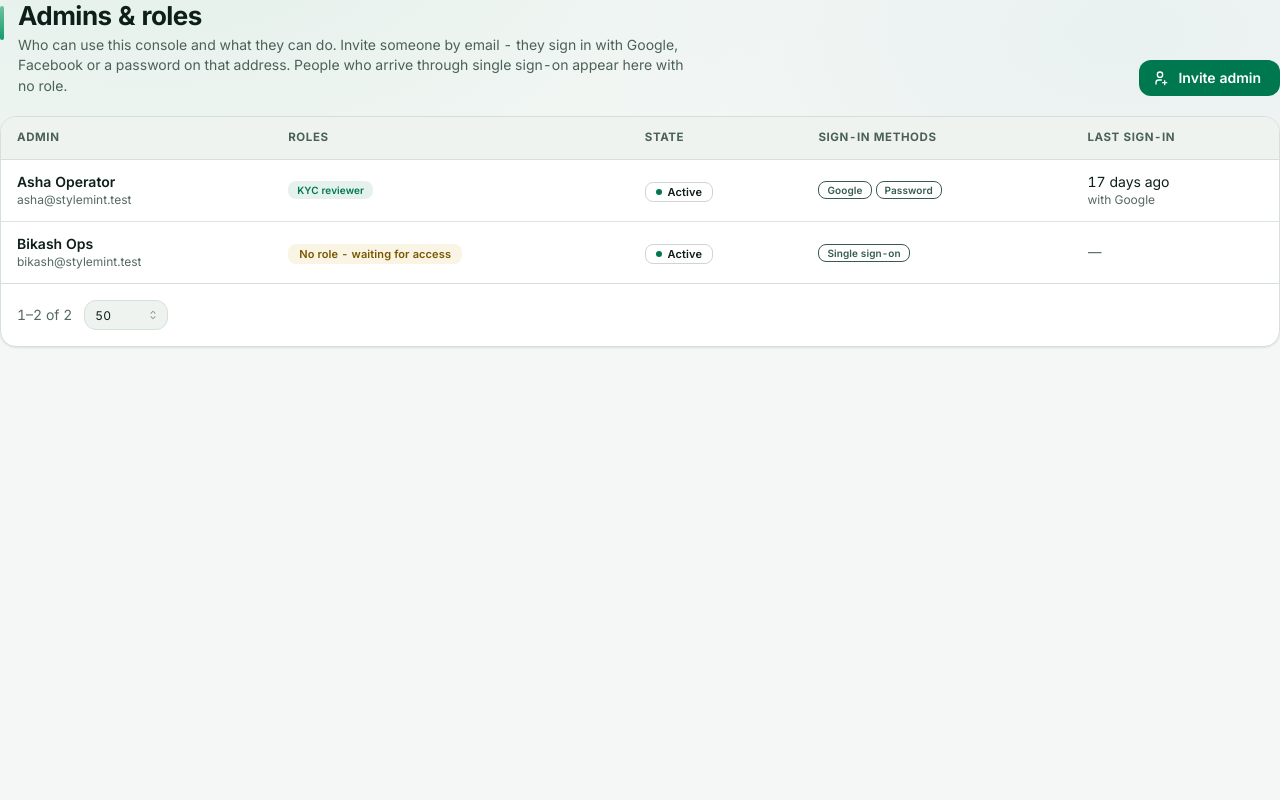
Test: invite admin › sends the invitation after the step-up check and refreshes the list
Click the button "Invite admin" at (1210, 78), box x1=1140 y1=60 x2=1279 y2=96
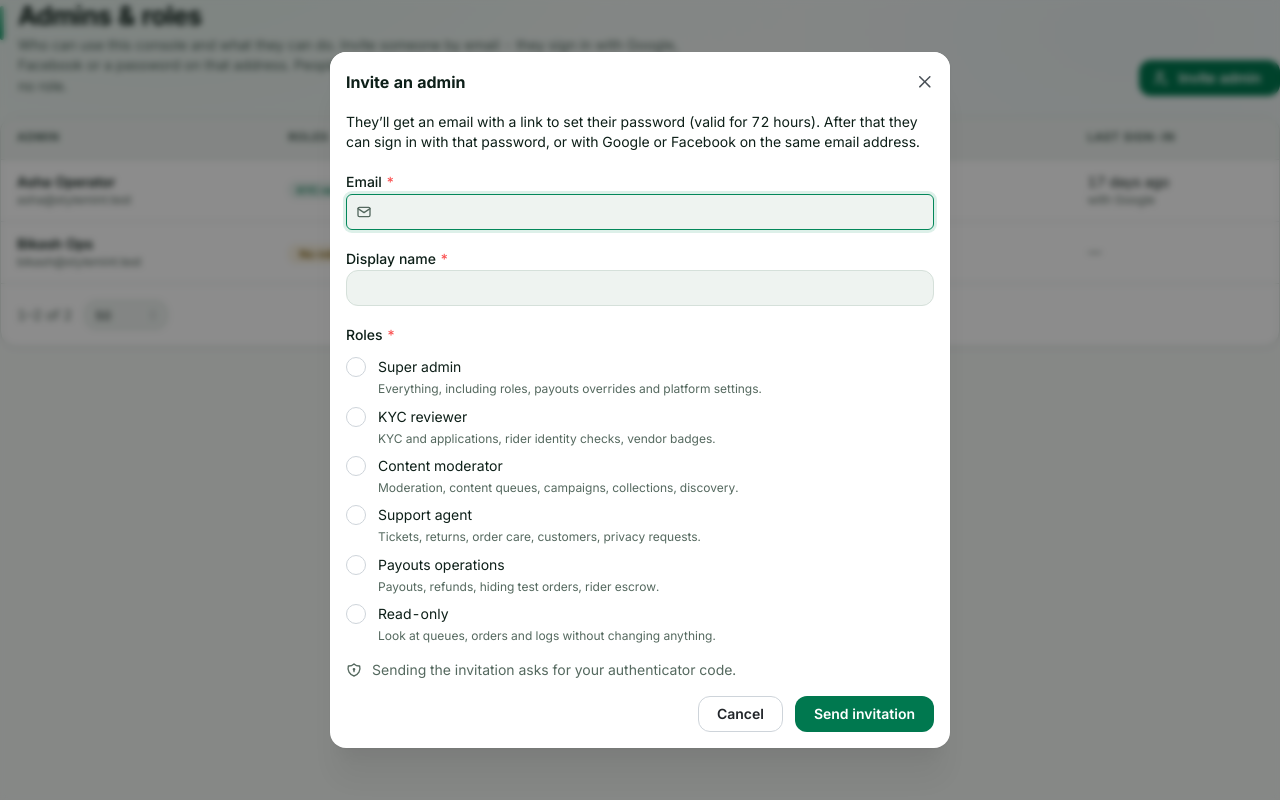
Type "  new.admin@stylemint.test " into the field labelled "Email *" at (640, 212), box x1=346 y1=194 x2=934 y2=230
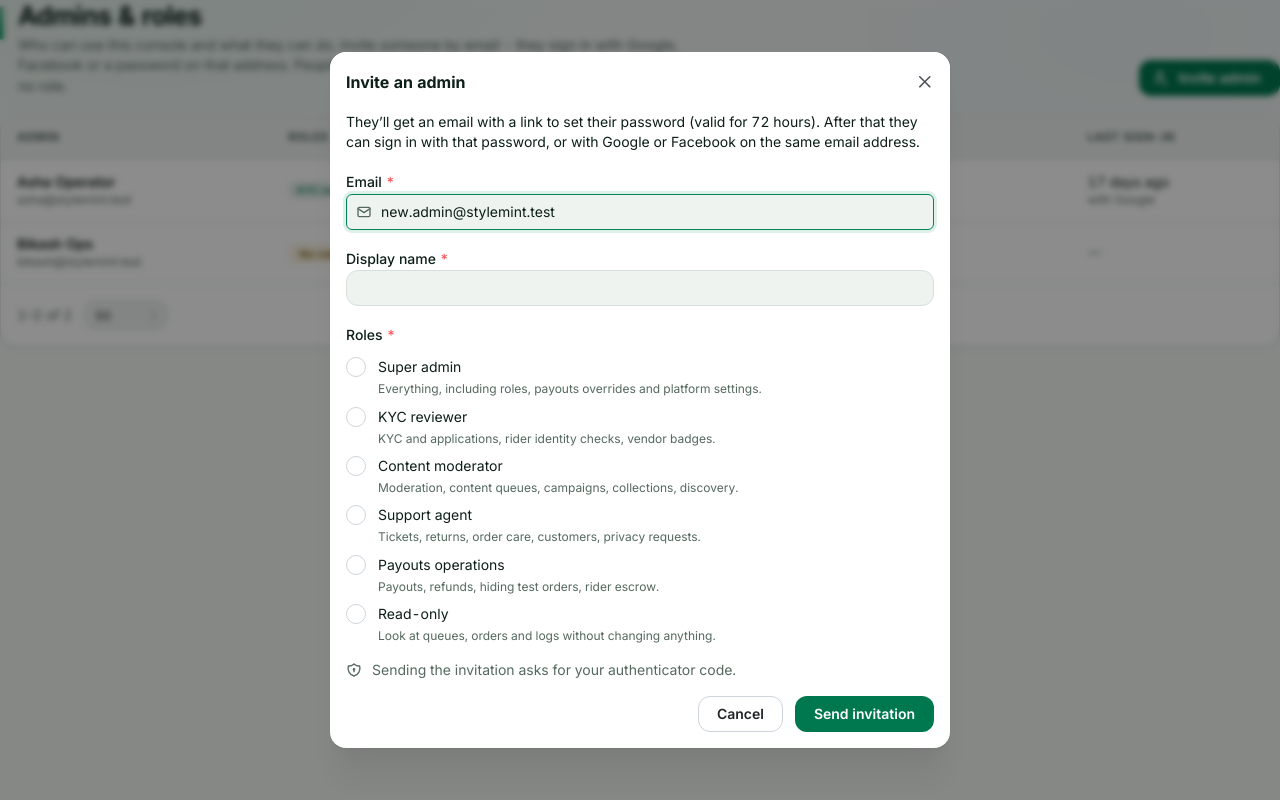
Type "New Admin" into the field labelled "Display name *" at (640, 288), box x1=346 y1=270 x2=934 y2=306
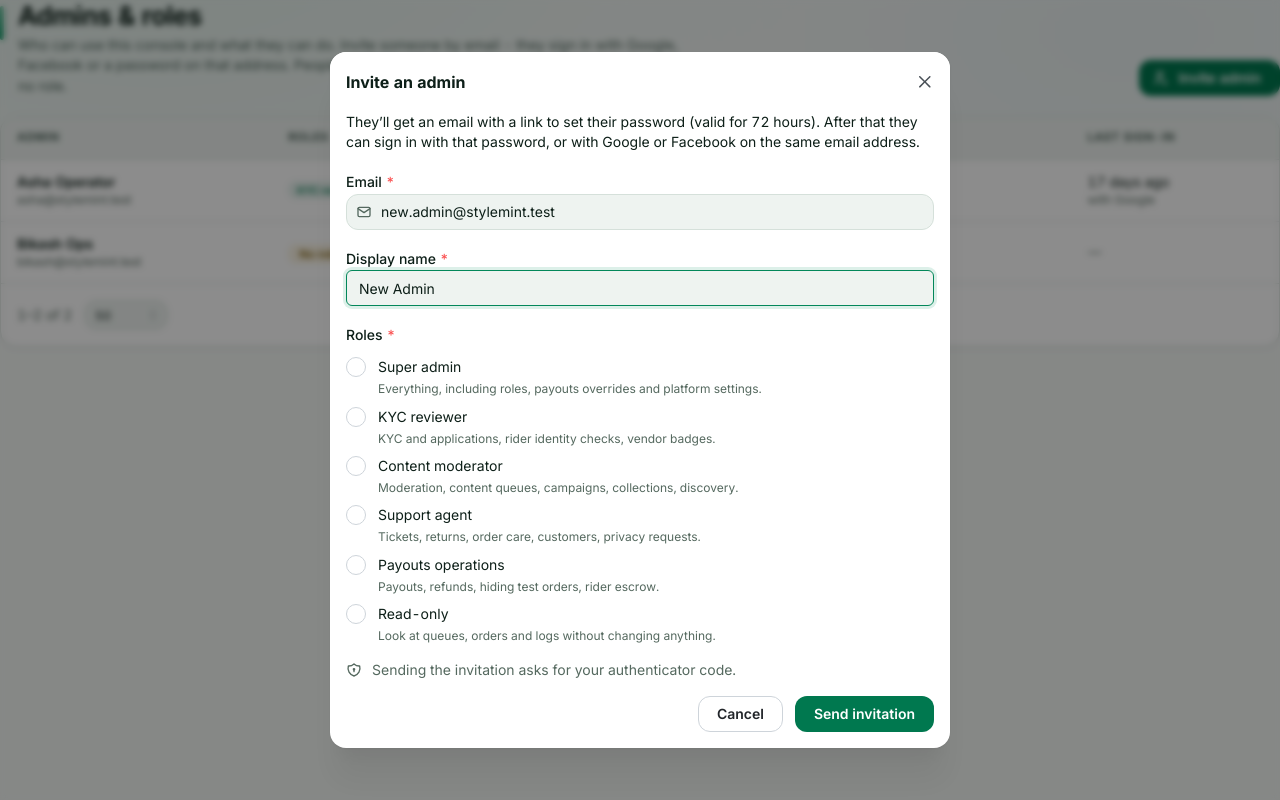
Click the checkbox labelled "KYC reviewer" at (356, 417), box x1=346 y1=407 x2=366 y2=427
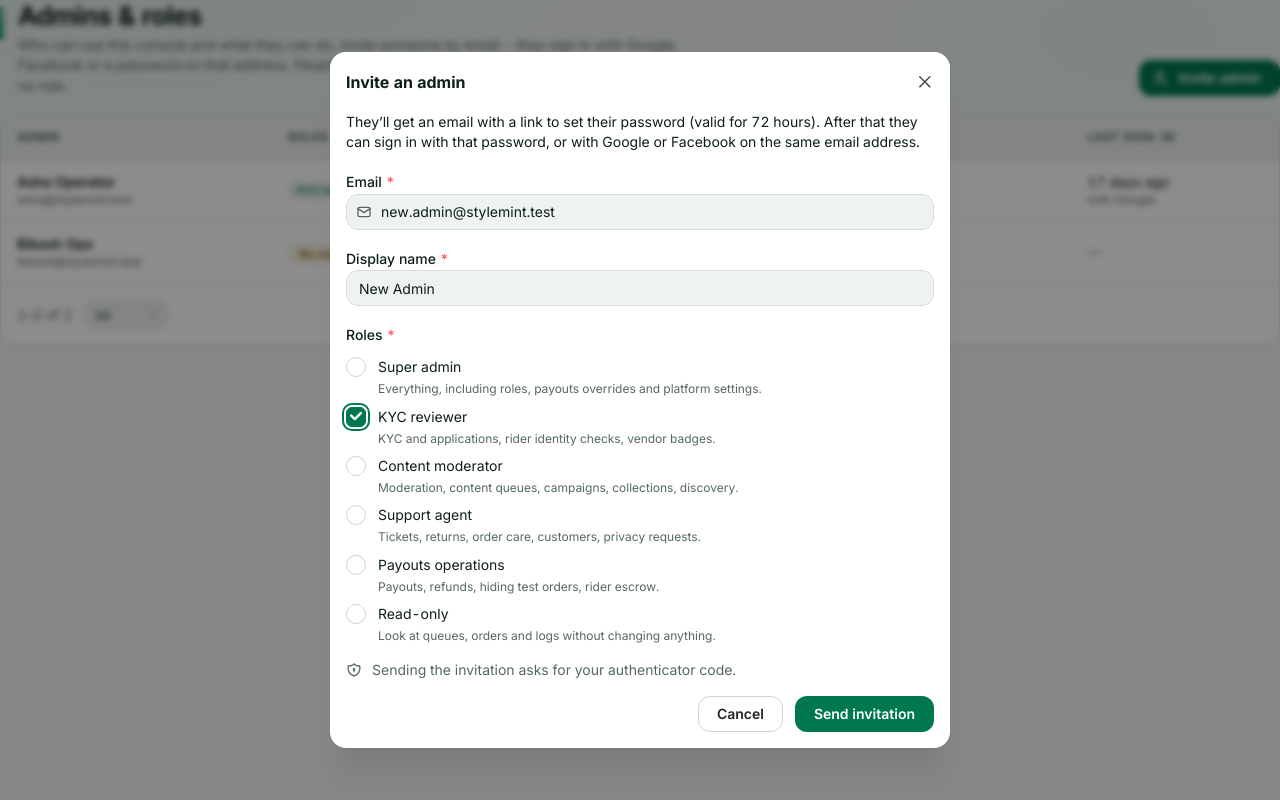
Click the checkbox labelled "Support agent" at (356, 515), box x1=346 y1=505 x2=366 y2=525
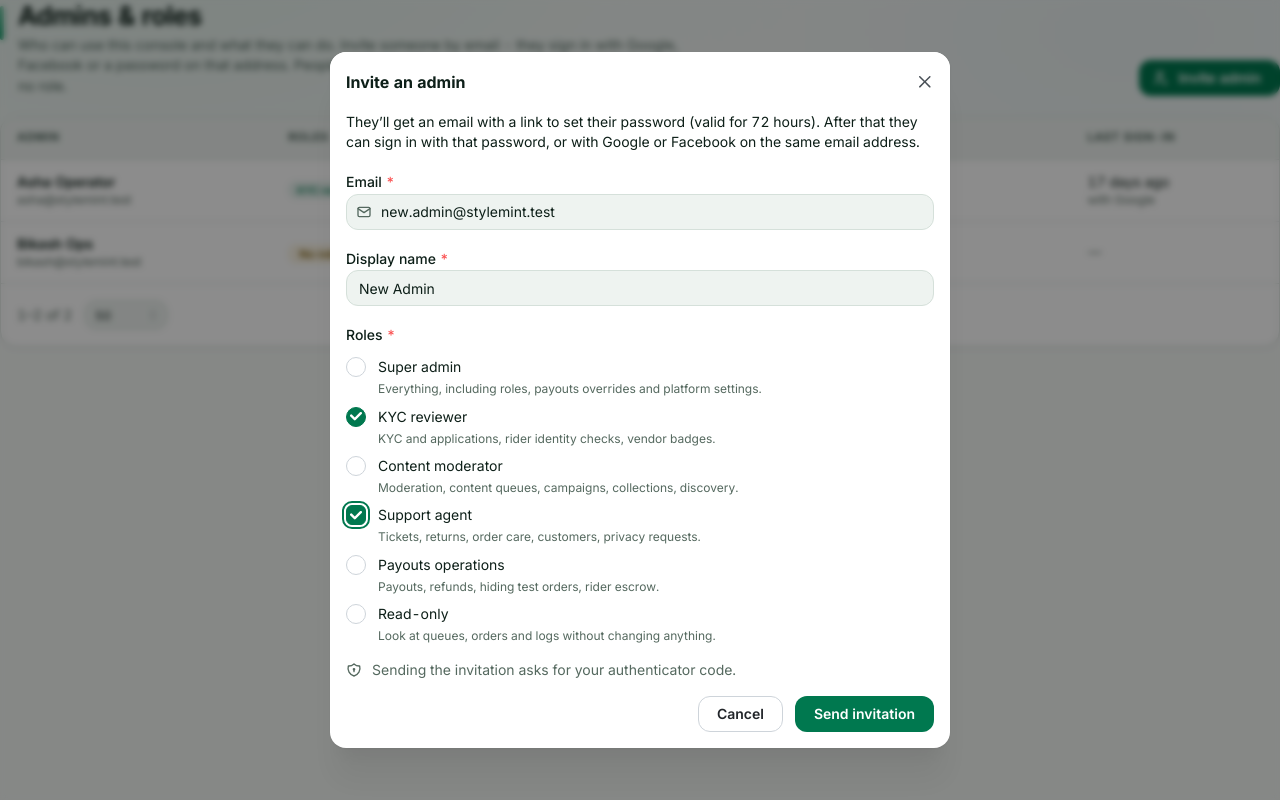
Click the button "Send invitation" at (864, 714), box x1=795 y1=696 x2=934 y2=732
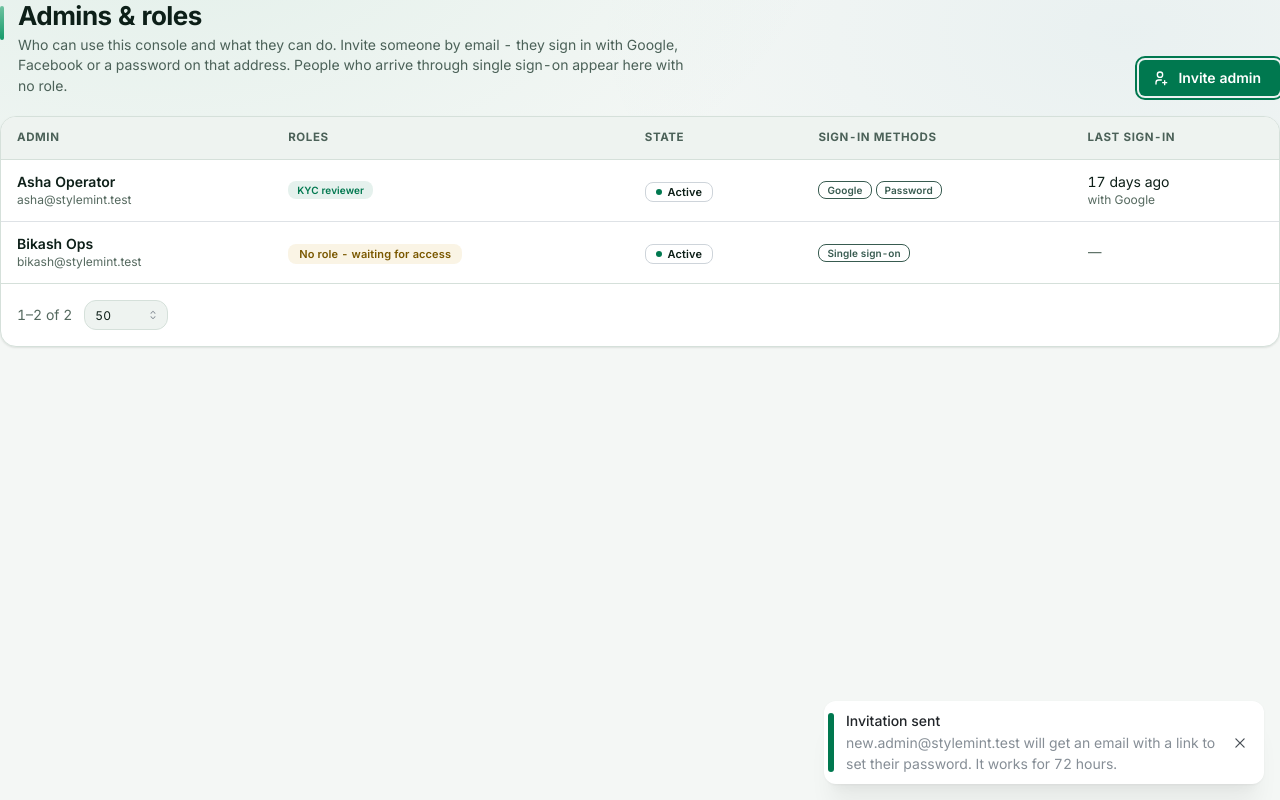
Expected: the text "Invitation sent" is shown, x1=846 y1=712 x2=940 y2=729
Expected: the dialog is gone
